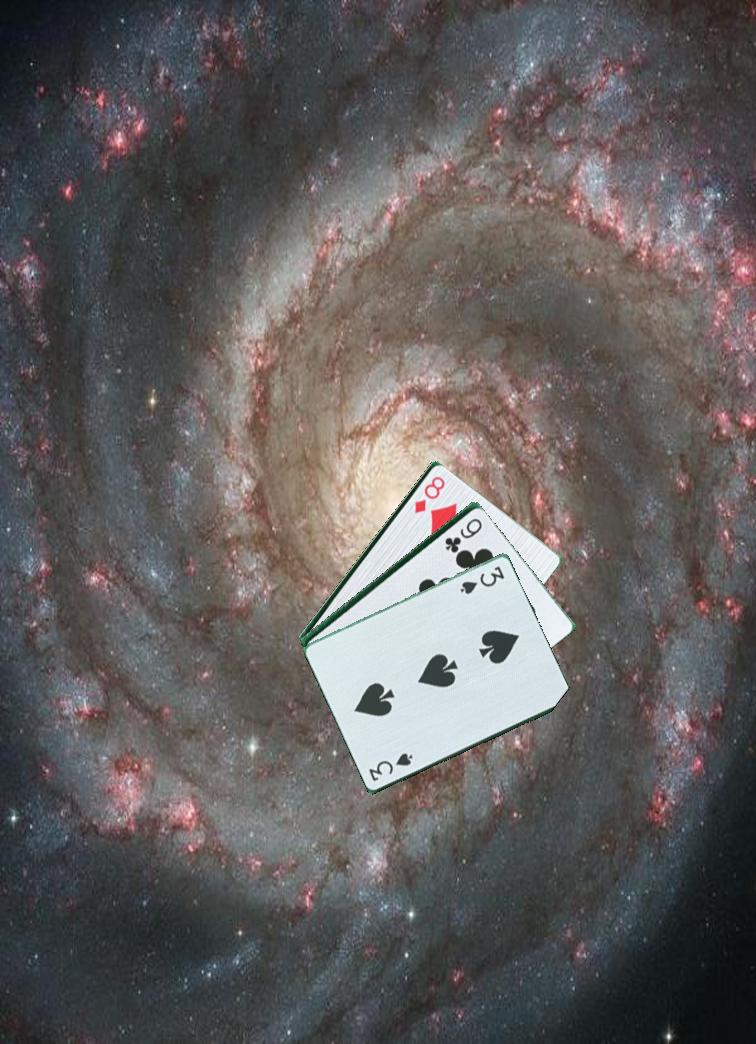3s: (365, 748, 418, 784), (457, 562, 507, 597)
8d: (411, 467, 448, 516)
9c: (441, 514, 485, 553)
